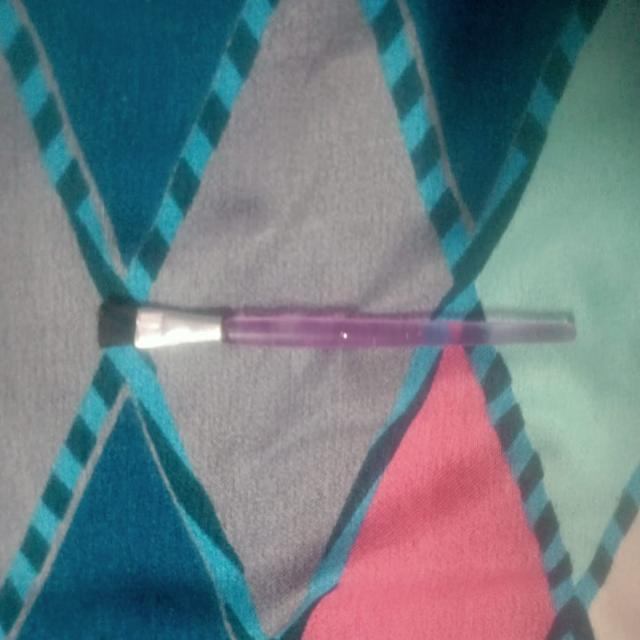brush: (84, 248, 609, 408)
